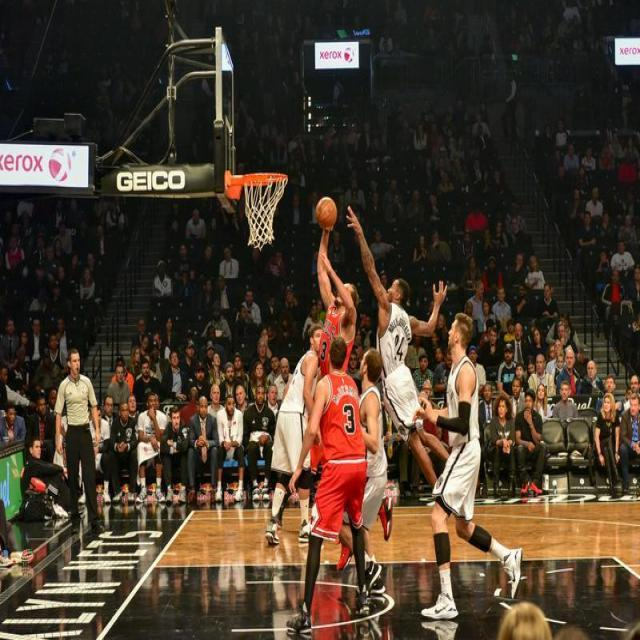Basketball: (316, 198, 338, 230)
hoop: (244, 172, 289, 250)
